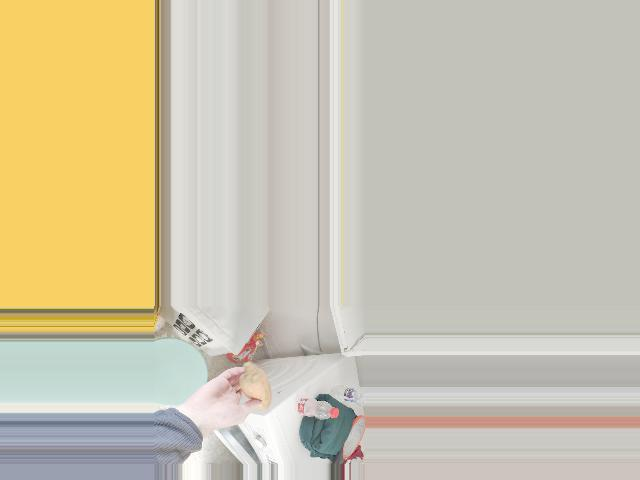sweet_potato: (235, 367, 271, 408)
